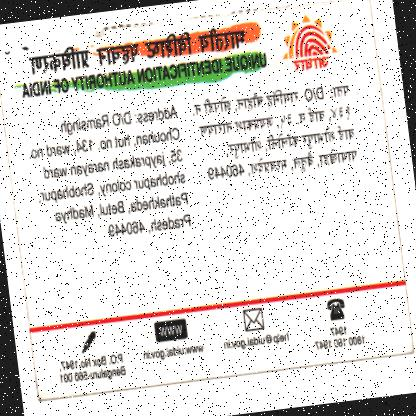aadhaar_card: (0, 0, 415, 405)
